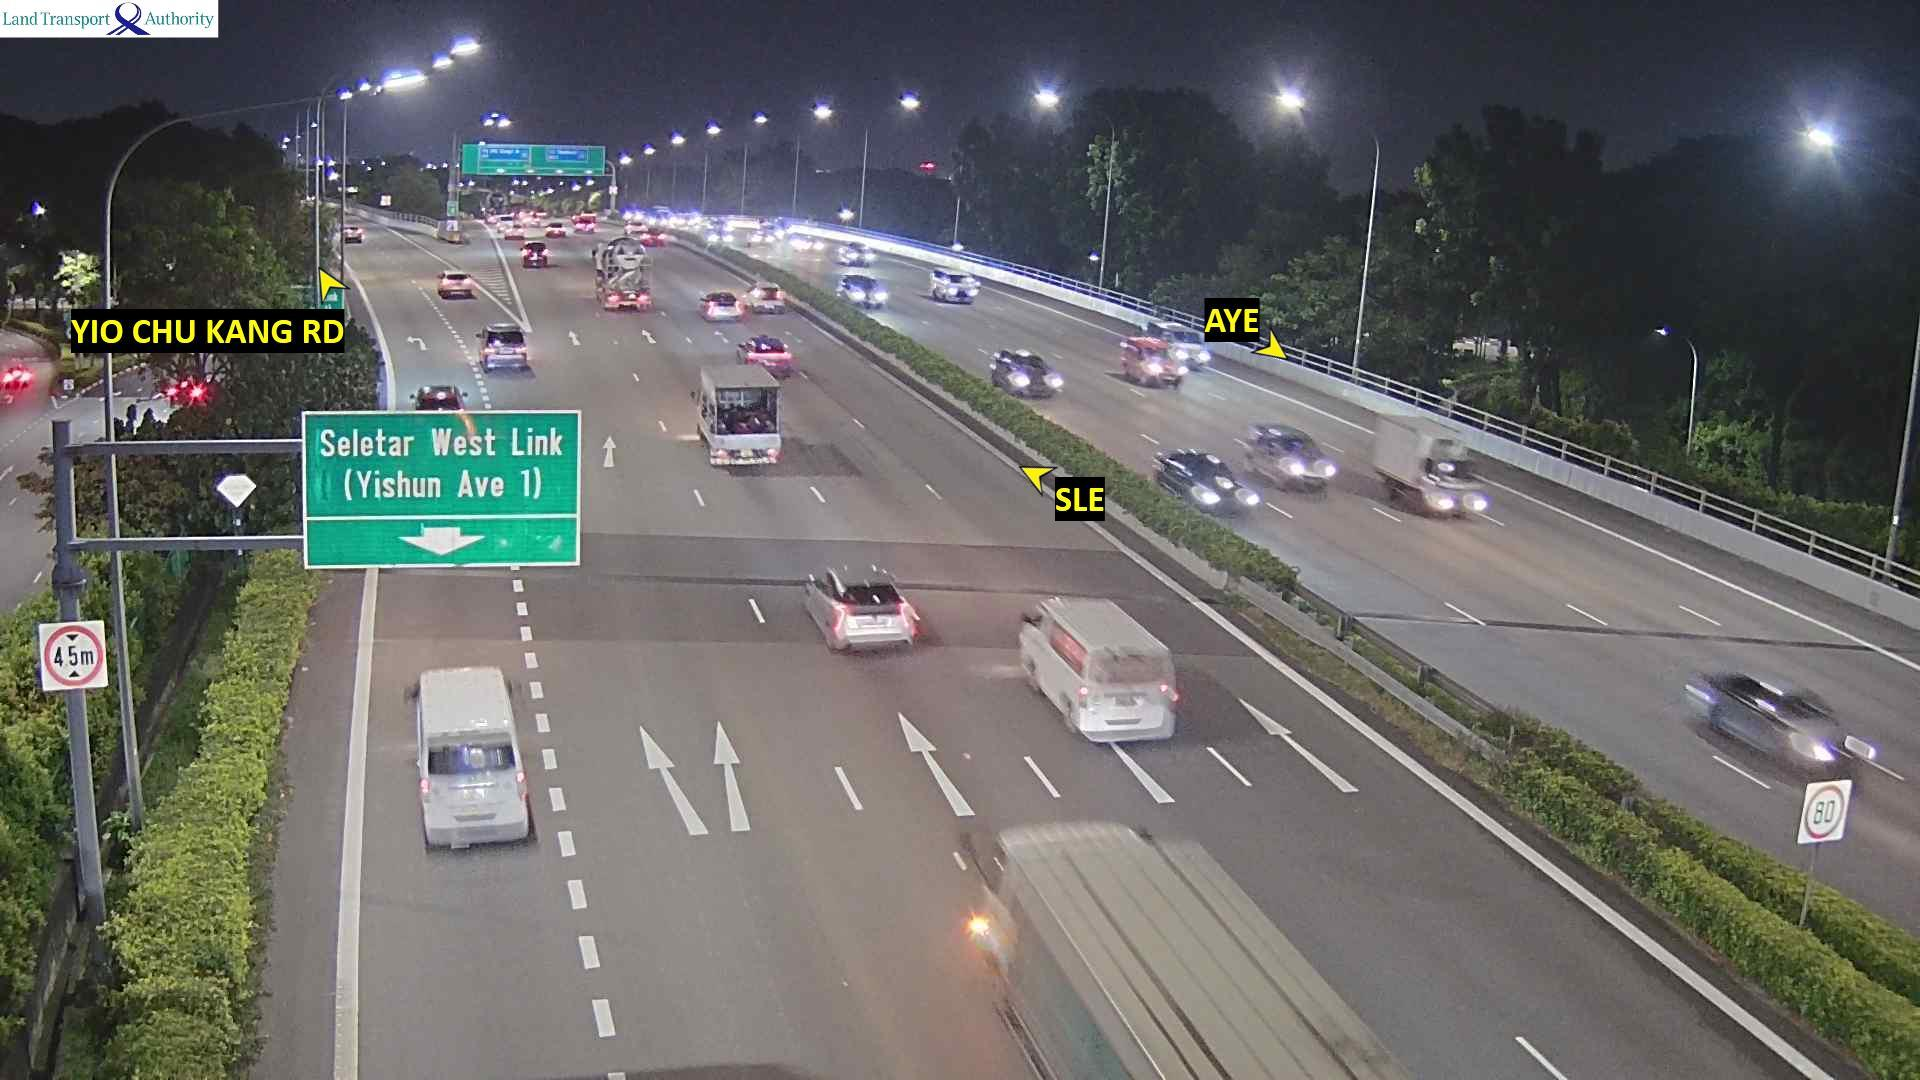incoming: (1756, 689, 1871, 775), (1267, 439, 1340, 495), (1187, 464, 1260, 516), (1426, 461, 1490, 516), (1009, 359, 1070, 401), (1141, 349, 1186, 392), (1172, 329, 1213, 366), (847, 277, 896, 307), (947, 273, 985, 303), (842, 243, 881, 266), (798, 234, 825, 255), (708, 229, 735, 245), (752, 231, 776, 246), (653, 208, 673, 224)
